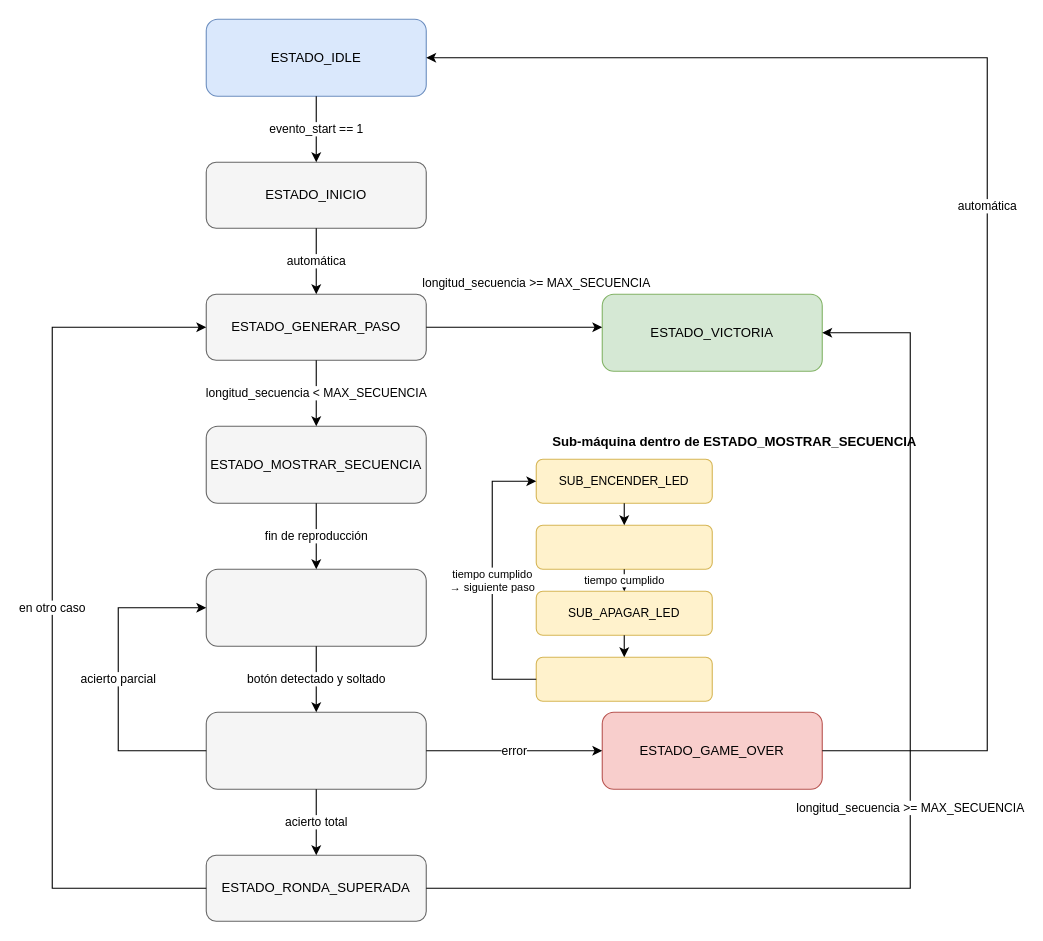
Some shapes in this 1043 by 941 pixel diagram are drawn without their labels. Here are the shapes that lost their labels. From the top down, the centre of each, then its label:
At [623,546]: "SUB_ESPERAR_LED_ON".
At [315,607]: "ESTADO_ESPERAR_JUGADOR".
At [623,678]: "SUB_ESPERAR_LED_OFF".
At [315,750]: "ESTADO_VALIDAR_JUGADA".
